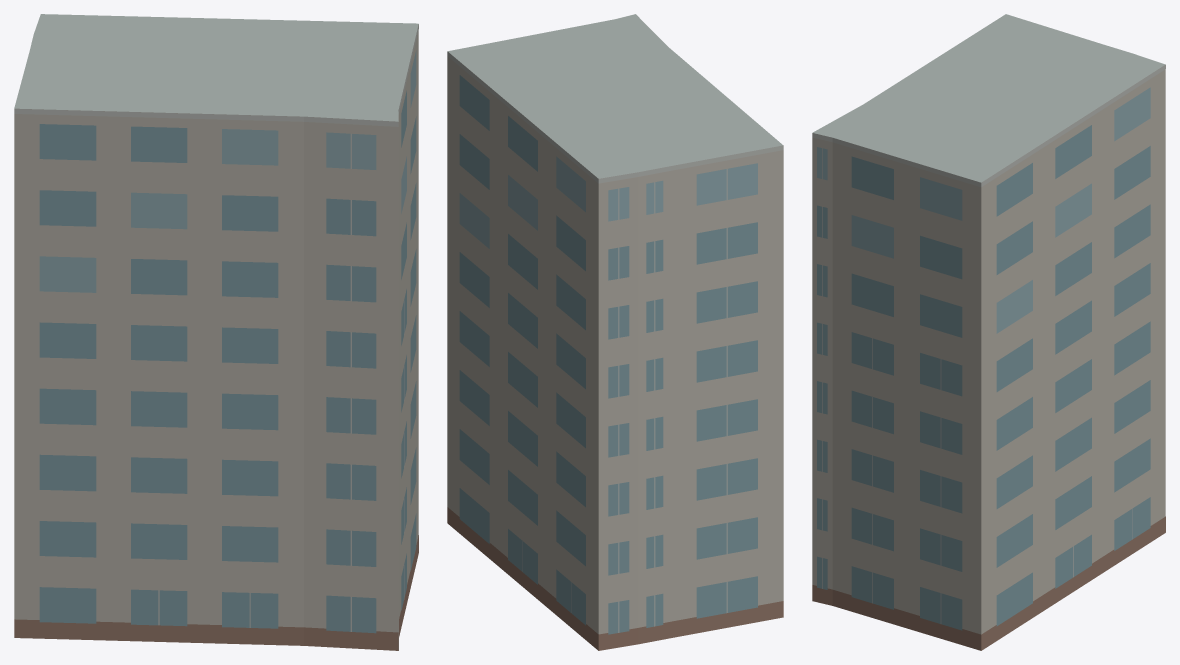
Rendered from survey-upis-32891957.glb.
3 renders of one model, left to right at view 1: azimuth 30°, elevation 25°; view 2: azimuth 150°, elevation 25°; view 3: azimuth 270°, elevation 25°, orthographic. The views are drawn at different scales.
Parts seen in each view (by area): view 1: survey-upis-32891957.tmp; view 2: survey-upis-32891957.tmp; view 3: survey-upis-32891957.tmp.
Boxes of the visible parts, <box> form: survey-upis-32891957.tmp: <box>14,14,418,650</box>; survey-upis-32891957.tmp: <box>447,14,783,650</box>; survey-upis-32891957.tmp: <box>812,14,1165,650</box>.
Bounding box in the file's own units: 18.9 × 24.45 × 16.74.
